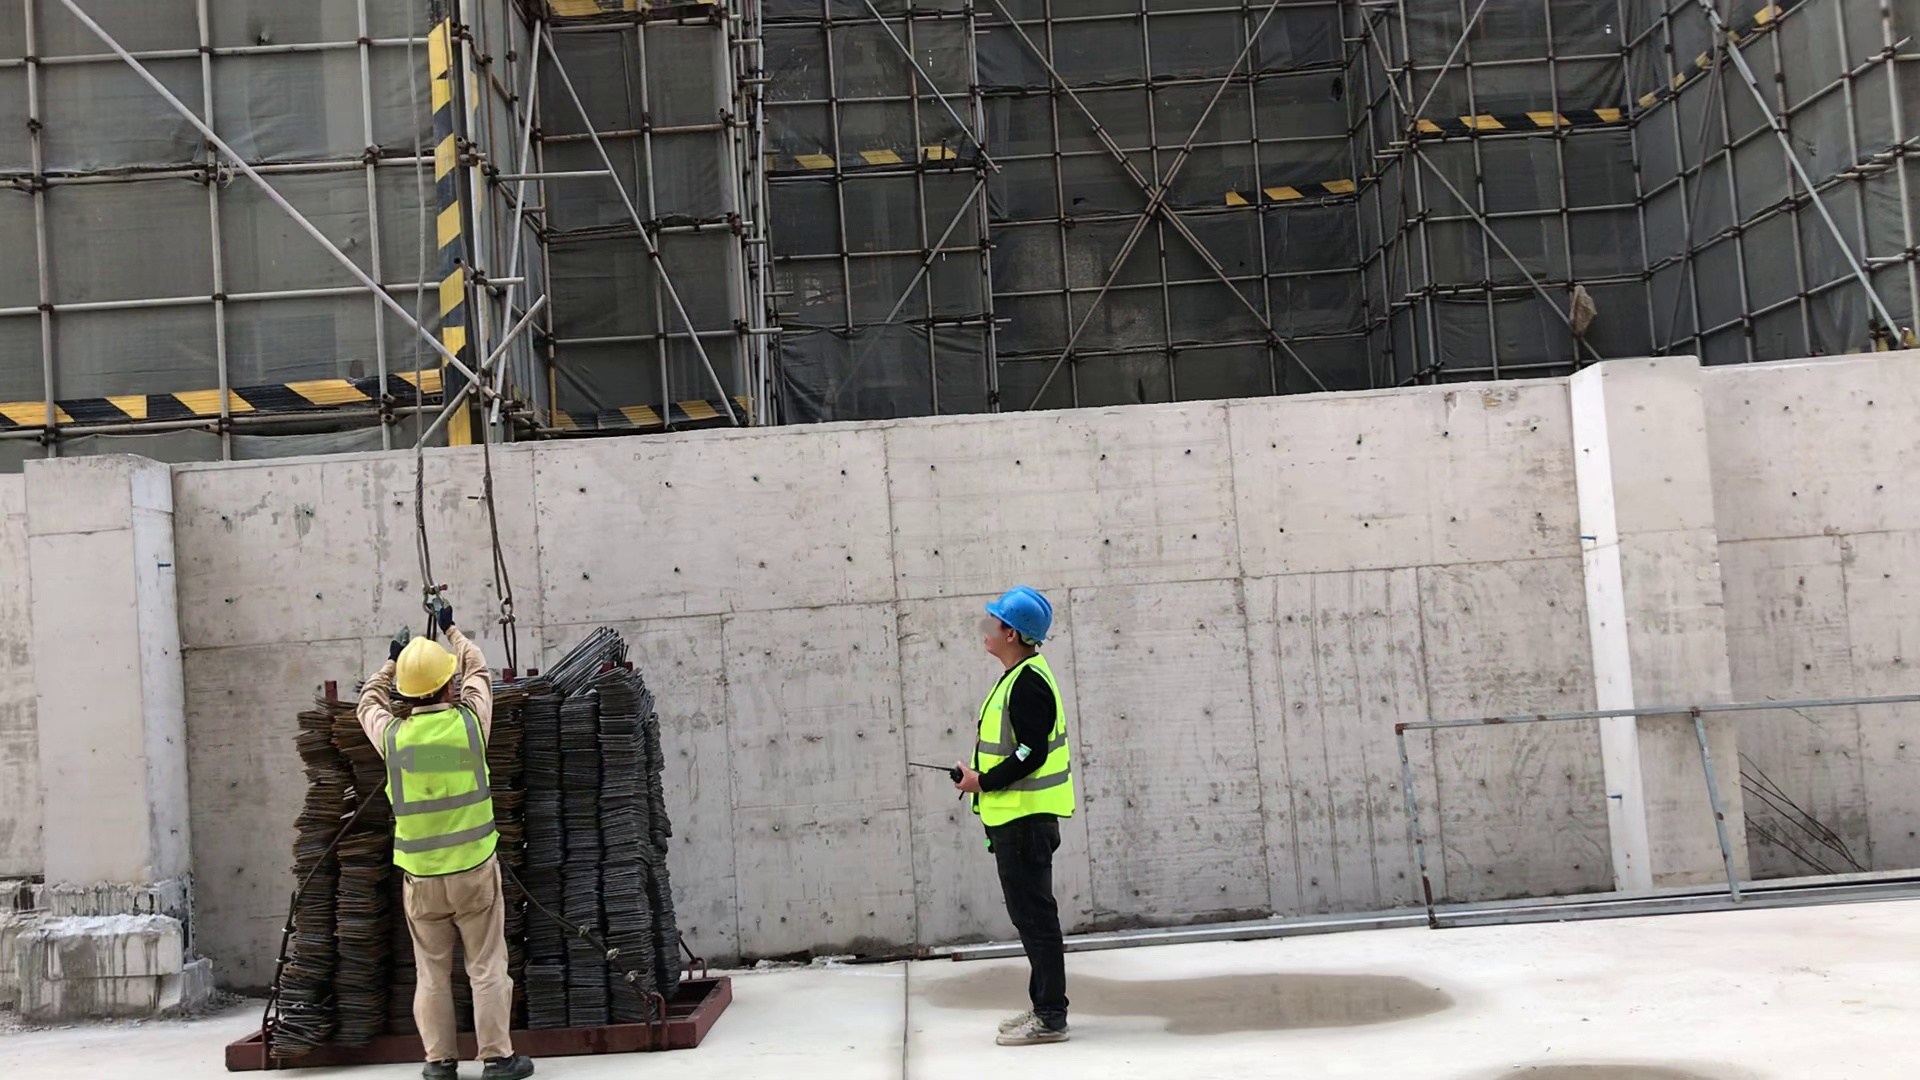helmet: (391, 630, 465, 695), (986, 579, 1058, 643)
person: (355, 631, 547, 1080), (948, 587, 1072, 1049)
vest: (960, 661, 1073, 813), (388, 727, 495, 854)
